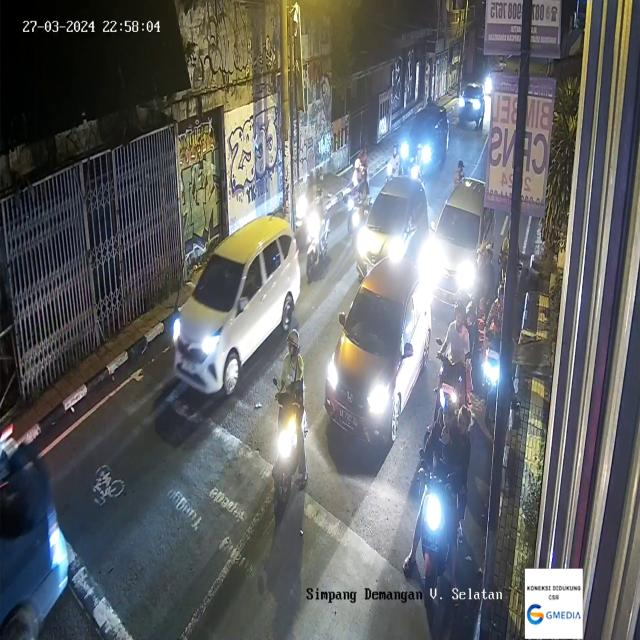car: (168, 216, 303, 385), (325, 260, 435, 440), (0, 435, 68, 640), (429, 179, 498, 304), (359, 178, 429, 278), (400, 96, 450, 162), (459, 81, 487, 128)
motorcycle: (416, 390, 476, 604), (274, 327, 310, 502), (435, 297, 481, 422), (304, 192, 330, 276), (352, 165, 369, 230), (411, 141, 427, 183), (386, 137, 400, 184)
